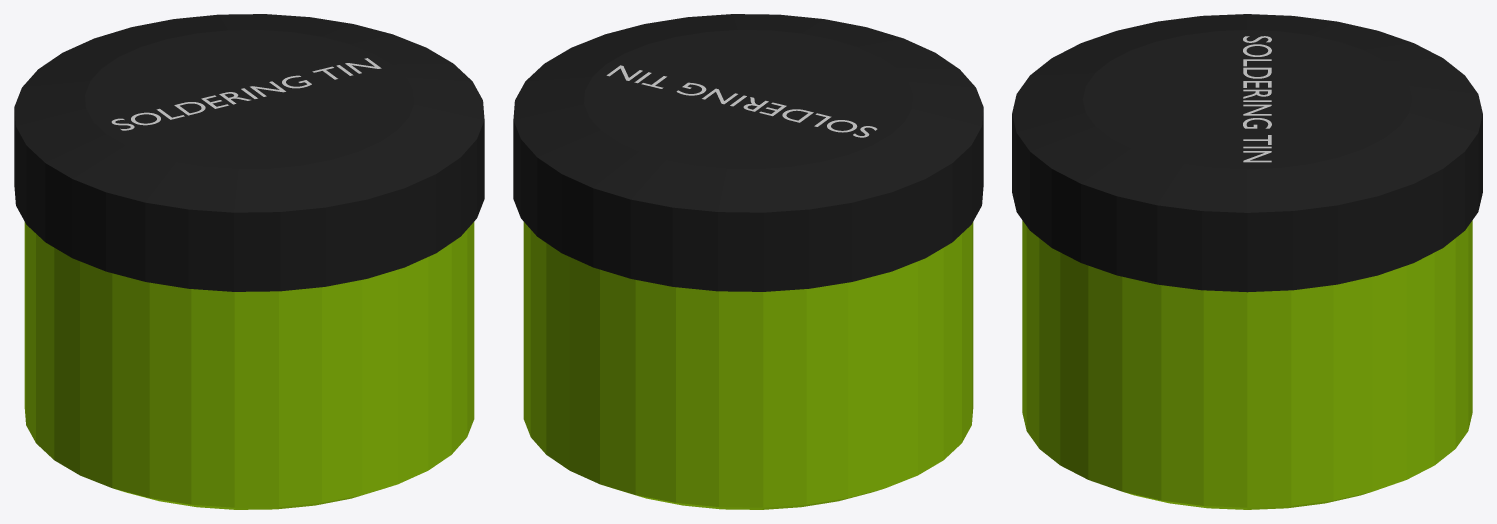
Rendered from SOLDERING_TIN.obj.
3 renders of one model, left to right at view 1: azimuth 30°, elevation 25°; view 2: azimuth 150°, elevation 25°; view 3: azimuth 270°, elevation 25°, orthographic.
Parts seen in each view (by area): view 1: LID_Cylinder.010, JAR_Cylinder.008, Text; view 2: LID_Cylinder.010, JAR_Cylinder.008, Text; view 3: LID_Cylinder.010, JAR_Cylinder.008, Text.
Part boxes in pixels (x1,y1,x2,y2): LID_Cylinder.010: (14,14,484,291); JAR_Cylinder.008: (24,222,474,509); Text: (111,58,381,130); LID_Cylinder.010: (513,14,983,291); JAR_Cylinder.008: (523,222,973,509); Text: (606,65,877,137); LID_Cylinder.010: (1012,14,1482,292); JAR_Cylinder.008: (1022,220,1472,509); Text: (1243,36,1271,162).
Bounding box in the file's own units: 0.1902 × 0.145 × 0.1902.
